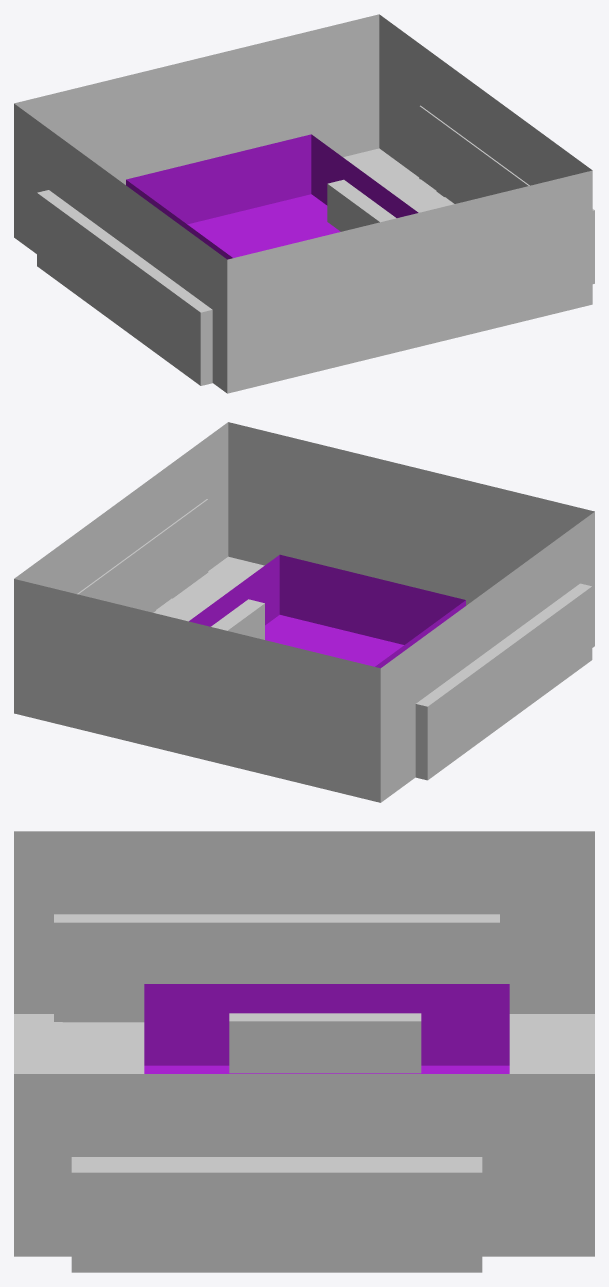
Rendered from warehouse.dae.
The picture shows the model from 3 angles, top to bottom: view 1: azimuth 30°, elevation 25°; view 2: azimuth 150°, elevation 25°; view 3: azimuth 270°, elevation 25°; orthographic projection. The views are drawn at different scales.
Parts seen in each view (by area): view 1: Curve.003, Curve.027, Cube, Cube.001, Cube.003; view 2: Curve.003, Curve.027, Cube, Cube.001, Cube.003; view 3: Curve.003, Cube.001, Cube, Curve.027, Cube.002, Curve.014.
Boxes of the visible parts, x1,y1,x2,y2 form: Curve.003: (14,14,592,393); Curve.027: (126,134,418,259); Cube: (37,190,212,385); Cube.001: (419,105,594,283); Cube.003: (327,179,396,231); Curve.003: (14,422,594,802); Curve.027: (189,554,465,668); Cube: (415,583,592,780); Cube.001: (77,499,208,612); Cube.003: (211,599,264,639); Curve.003: (14,831,594,1256); Cube.001: (71,1157,482,1272); Cube: (54,914,499,1022); Curve.027: (144,984,509,1073); Cube.002: (229,1013,421,1073); Curve.014: (18,1014,62,1073).
Bounding box in the file's own units: 32.31 × 29.8 × 10.37.
